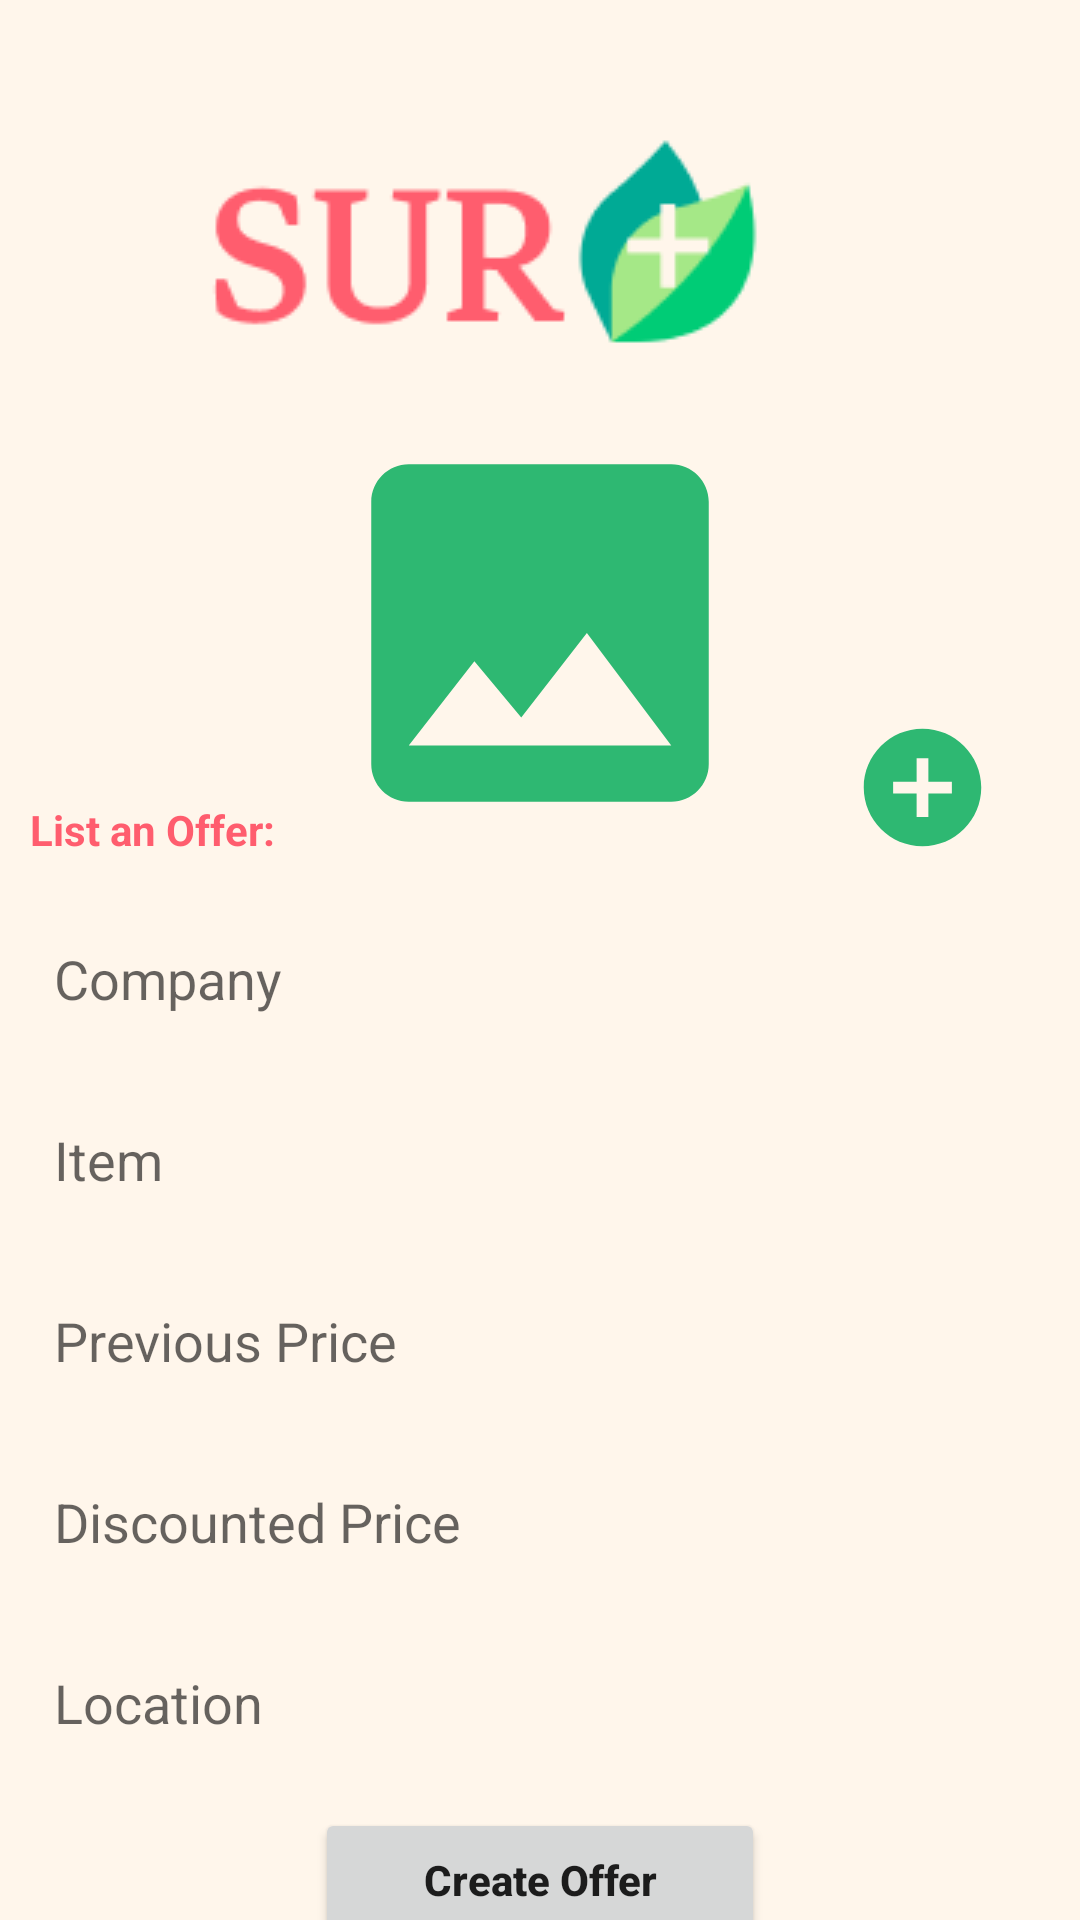

Locate icon controls on the screen. Image size 1080w x 1920h, boxes as bbox=[x1, y1, x2, y2].
add circle: bbox=[863, 728, 982, 847]
